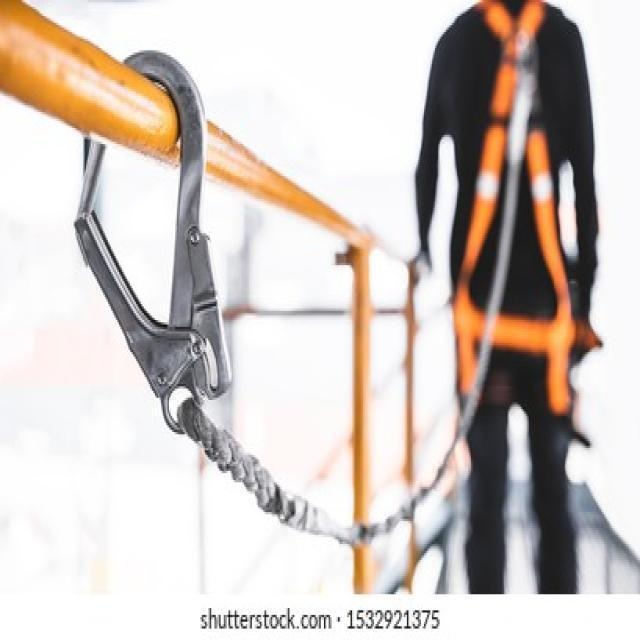Arnes_seguridad: (449, 0, 582, 421)
